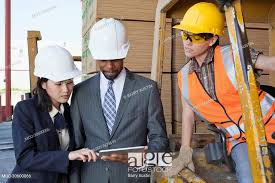Person_wearing_helmet: (27, 41, 79, 89), (84, 14, 134, 63), (176, 0, 226, 44)
